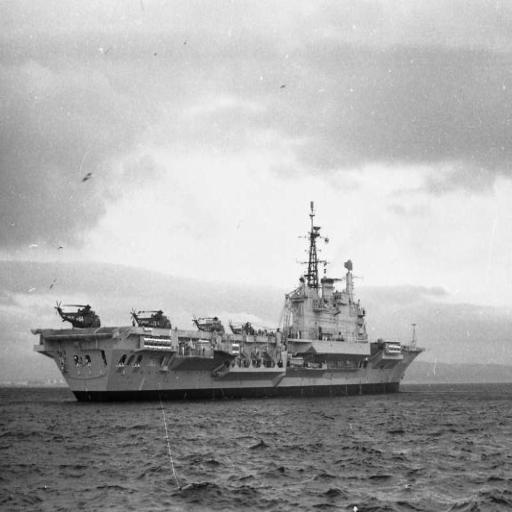Portanaves: (29, 197, 431, 401)
